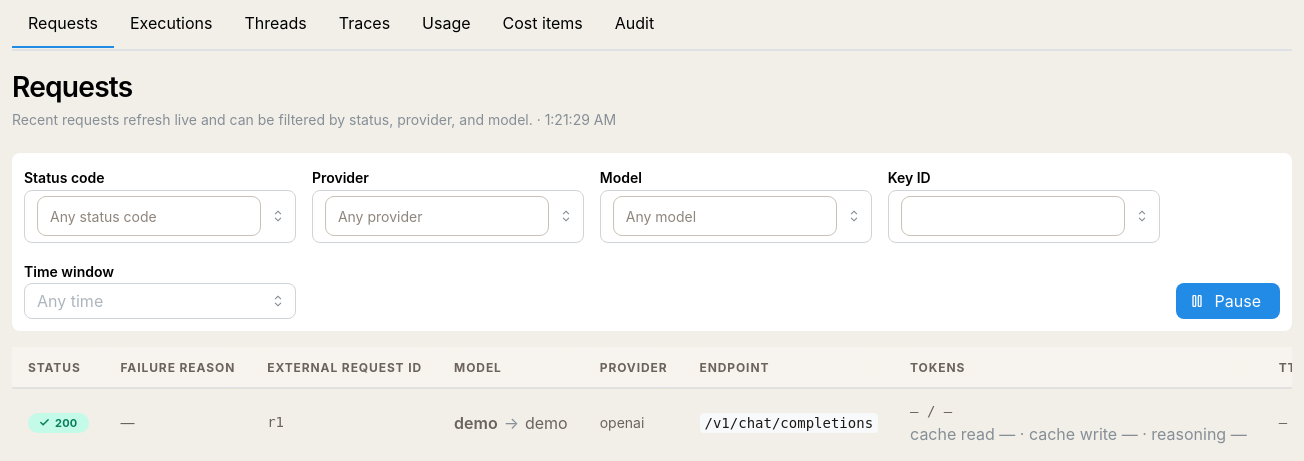
it: filters only offer what the projection emitted › builds the provider and model facets from observed values
Click the dropdown labelled "Provider" at (437,216), box x1=325 y1=196 x2=549 y2=236
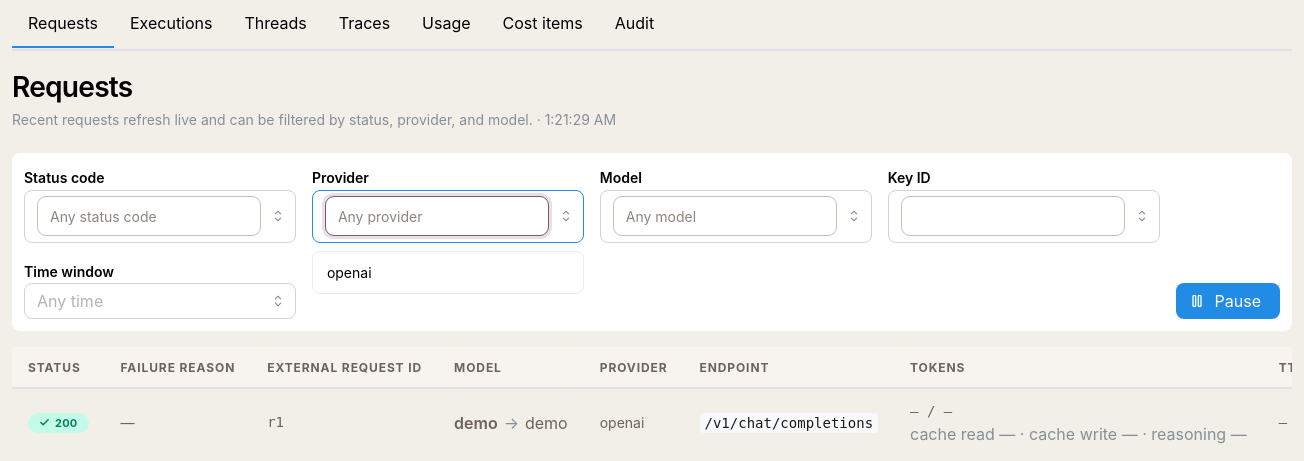
expect the option "openai" is shown: met, box x1=327 y1=264 x2=372 y2=281
Press Escape
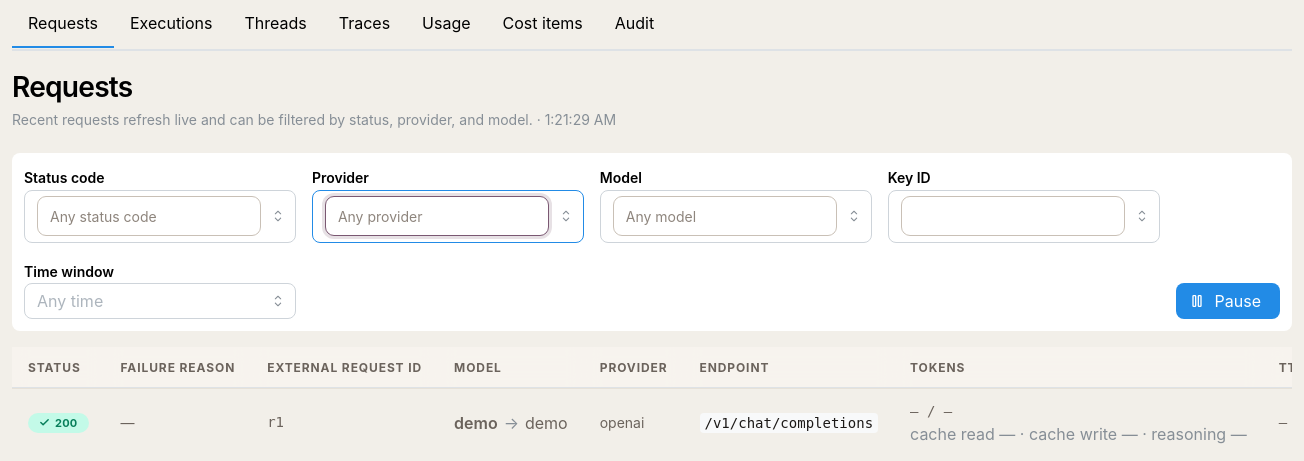
Click the dropdown labelled "Model" at (725,216), box x1=613 y1=196 x2=837 y2=236
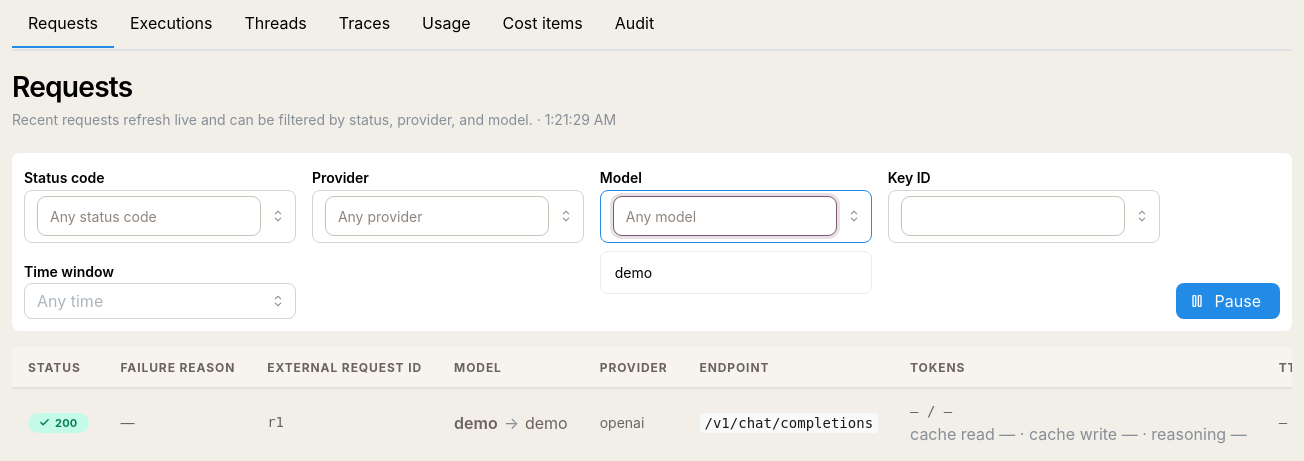
expect the option "demo" is shown: met, box x1=615 y1=264 x2=652 y2=281
